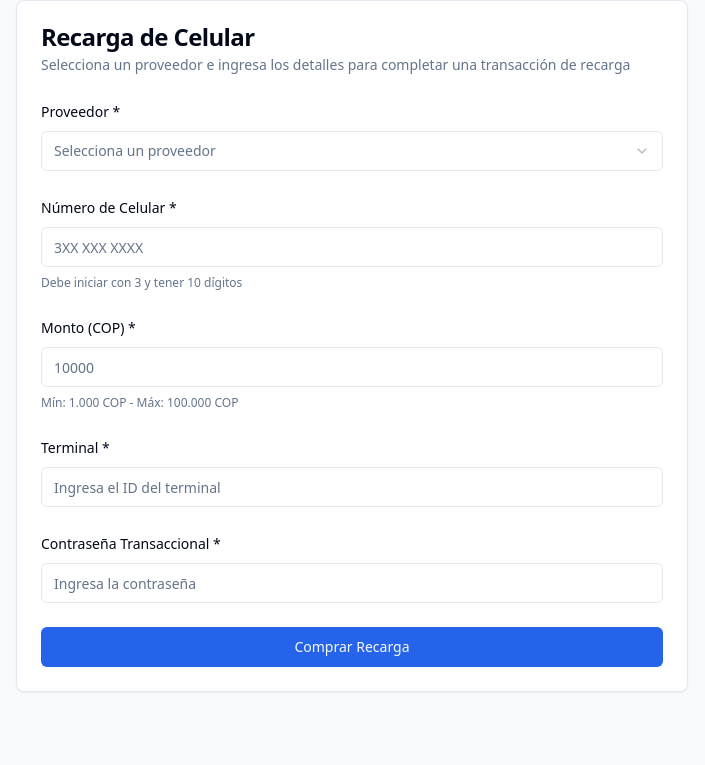
TopUpPage › Business Rules Integration › should validate all business rules together
Type "2001234567" into the field labelled "Número de Celular *".
click(352, 247); type("2001234567")  # box [41,227,663,267]
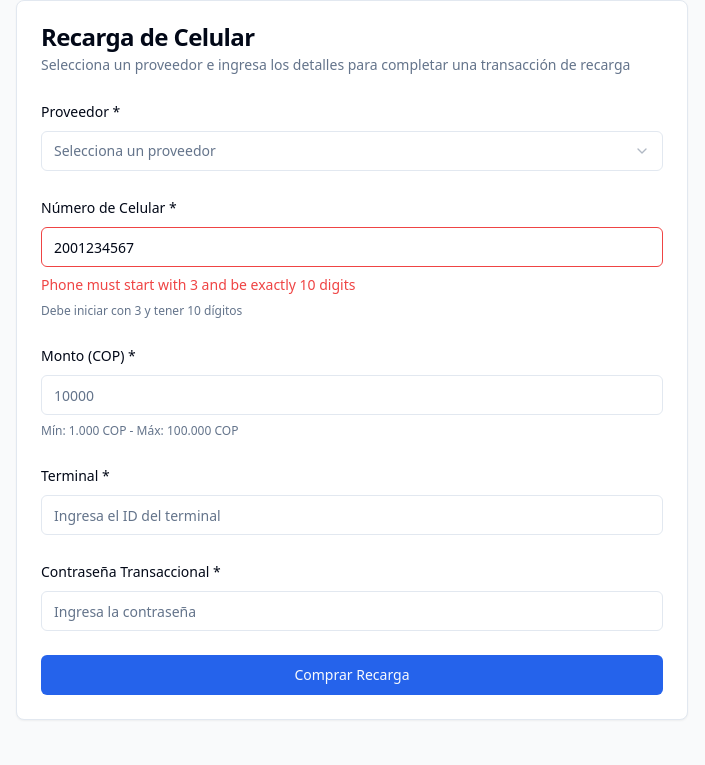
Type "500" into the field labelled "Monto (COP) *".
click(352, 395); type("500")  # box [41,375,663,415]
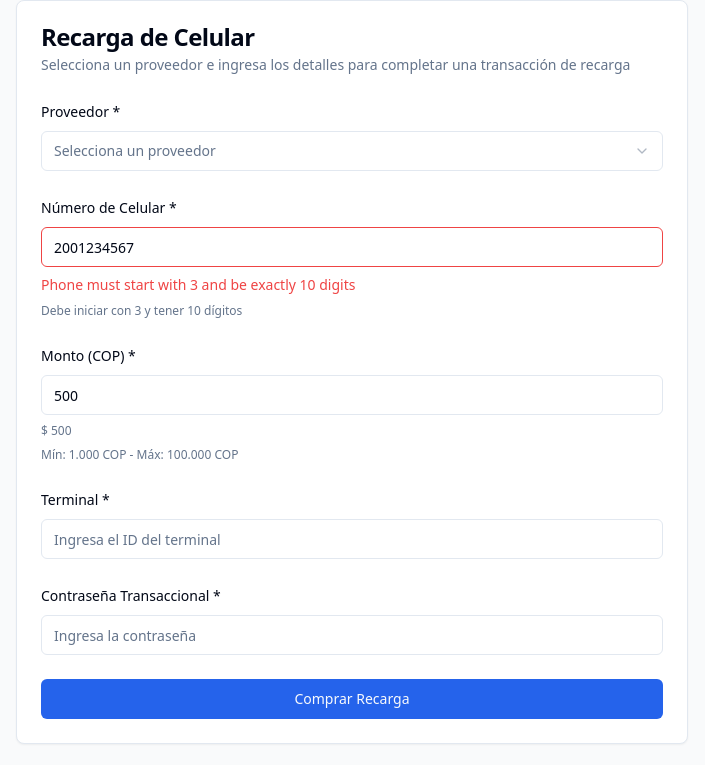
Leave the field labelled "Monto (COP) *", box [41,375,663,415]
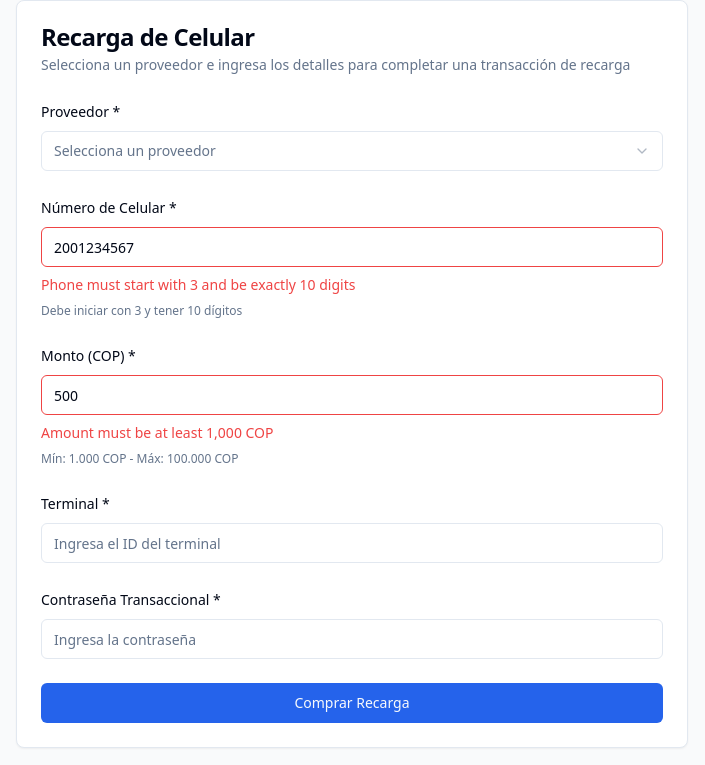
Expected: the text "Phone must start with 3 and be exactly 10 digits" is shown, [41,275,355,294]
Expected: the text "Amount must be at least 1,000 COP" is shown, [41,423,274,442]
